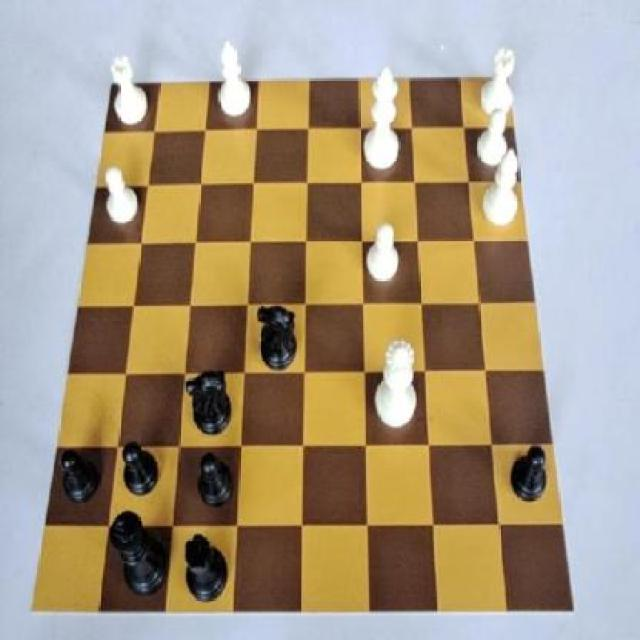black-bishop: (111, 512, 171, 608)
black-king: (184, 358, 238, 441), (256, 297, 304, 383)
black-knight: (505, 443, 556, 521), (56, 441, 104, 514), (115, 439, 164, 506), (195, 451, 240, 519)
black-queen: (174, 526, 236, 609)
black-rook: (212, 39, 255, 122), (482, 143, 520, 235)
white-bishop: (363, 60, 406, 176)
white-knight: (363, 211, 408, 285), (100, 166, 145, 230), (474, 105, 514, 169)
white-pawn: (368, 331, 422, 436)
white-queen: (103, 51, 155, 133), (477, 35, 518, 130)
